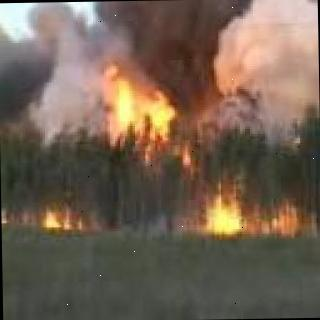fire: (96, 51, 182, 161), (206, 188, 245, 231), (259, 196, 298, 236), (40, 202, 76, 234)
